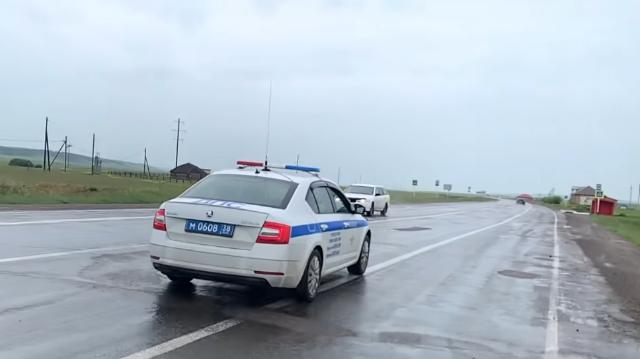non emergency car: (341, 186, 389, 218)
police car: (150, 162, 372, 305)
